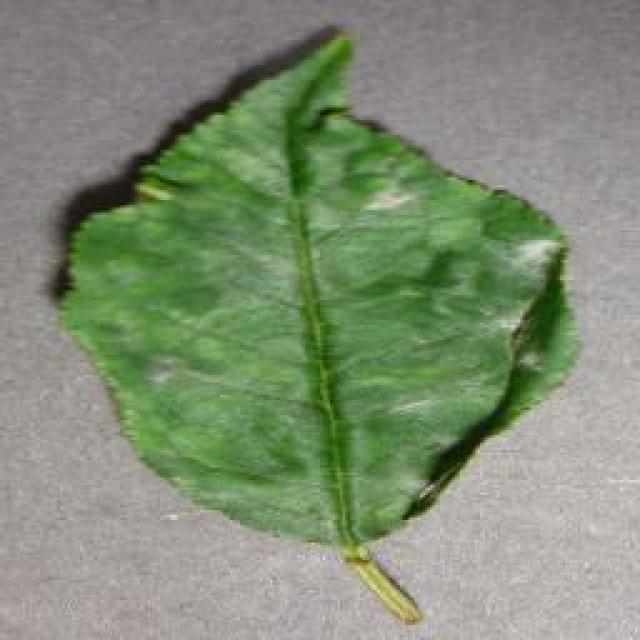Cherry___Powdery_mildew: (42, 12, 592, 638)
